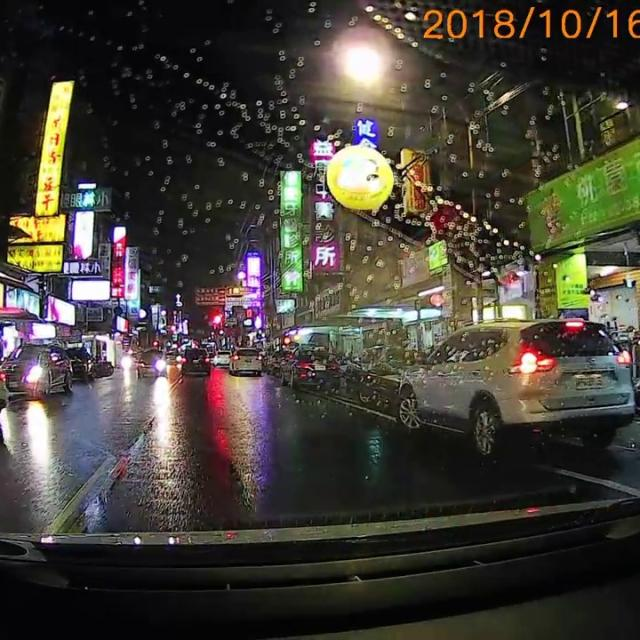Car: (393, 314, 635, 456), (0, 339, 72, 402), (277, 347, 343, 393), (225, 345, 263, 375), (65, 345, 95, 383), (134, 347, 168, 379), (177, 347, 210, 376), (212, 349, 230, 365)
